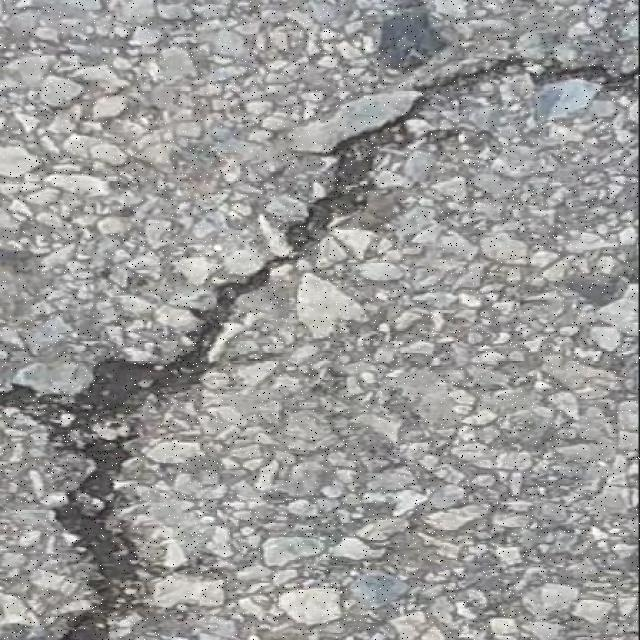Crack: (2, 58, 639, 640)
